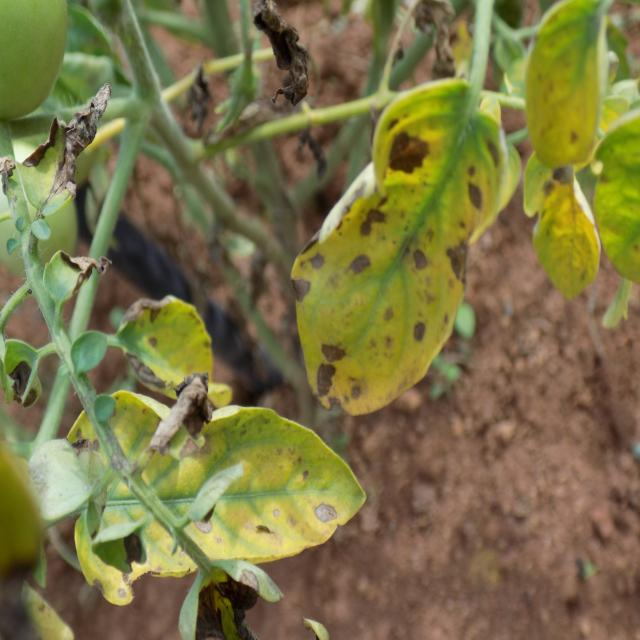tomato_early blight: (292, 77, 509, 415), (104, 405, 365, 576), (0, 85, 120, 214), (526, 0, 612, 167), (106, 296, 212, 398), (534, 167, 602, 298), (70, 482, 134, 608), (110, 391, 168, 461), (208, 382, 231, 407)
